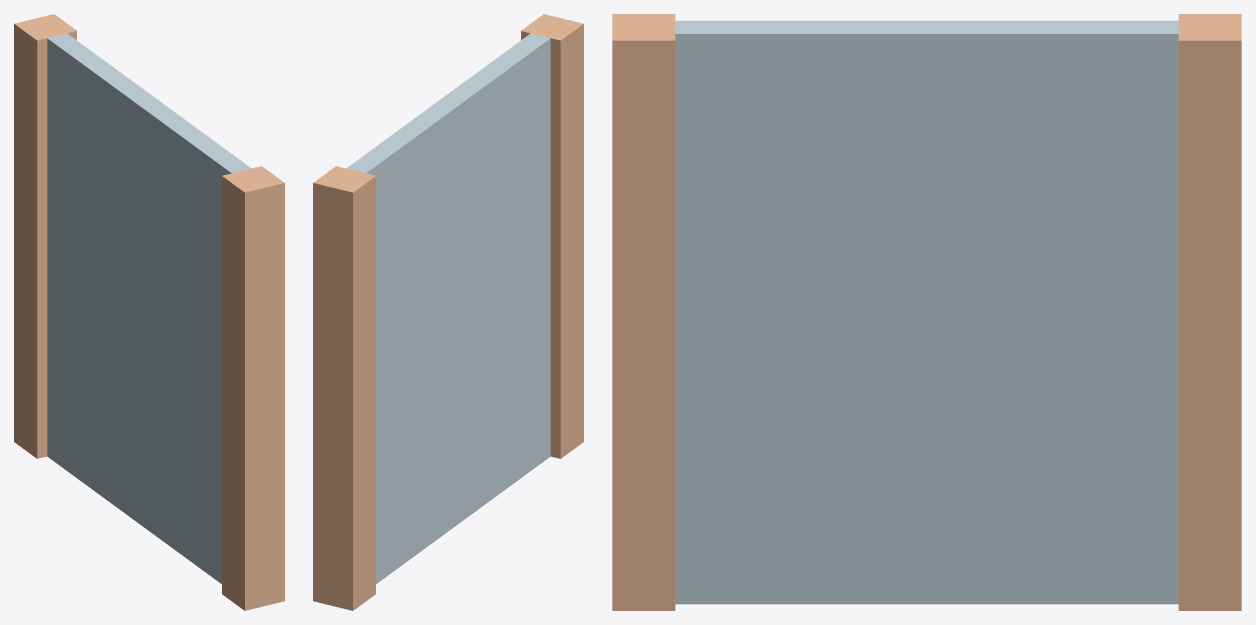
The model's file is wall.glb.
The picture shows the model from 3 angles, left to right: view 1: azimuth 30°, elevation 25°; view 2: azimuth 150°, elevation 25°; view 3: azimuth 270°, elevation 25°; orthographic projection. The views are drawn at different scales.
Visible parts, largest first — view 1: wall; view 2: wall; view 3: wall.
Part boxes in pixels (box(x1,y1,x2,y2)): wall: box(14, 14, 284, 610); wall: box(313, 14, 583, 610); wall: box(612, 14, 1241, 610).
Bounding box in the file's own units: 0.1 × 1 × 1.
